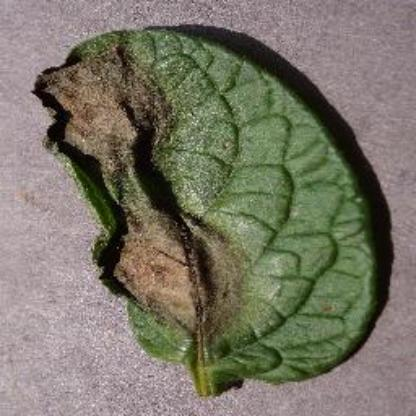Late-Blight: (31, 24, 389, 402)
